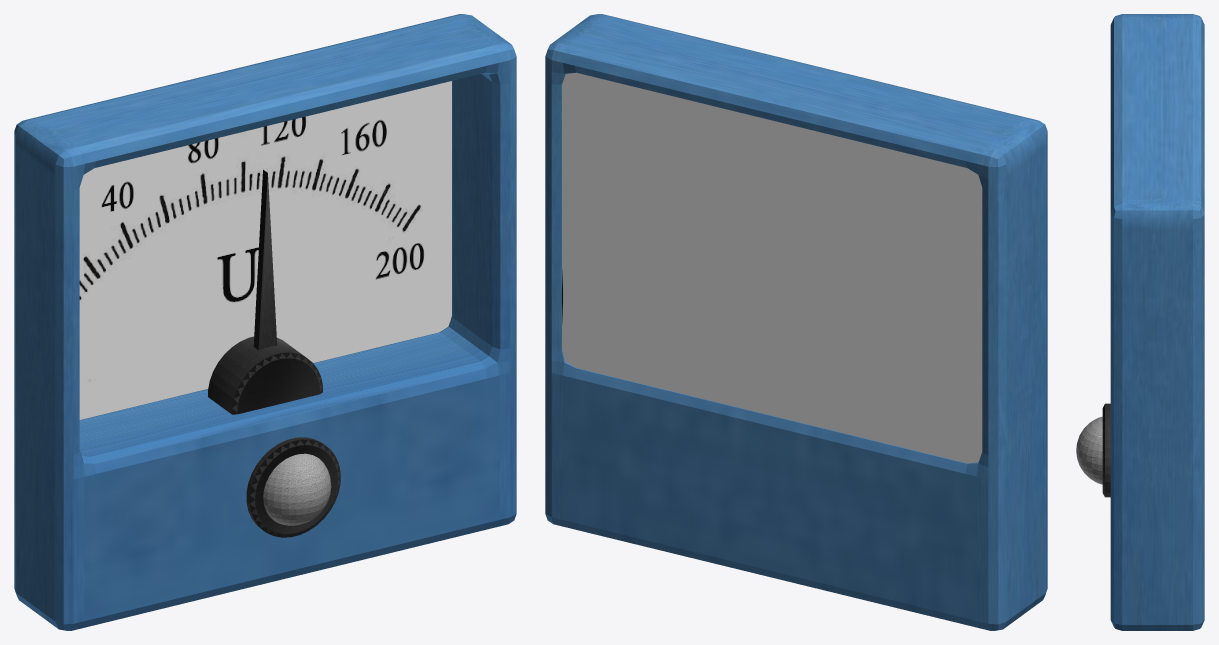
File: voltmeter.fbx
The picture shows the model from 3 angles, left to right: view 1: azimuth 30°, elevation 25°; view 2: azimuth 150°, elevation 25°; view 3: azimuth 270°, elevation 25°; orthographic projection. The views are drawn at different scales.
Visible parts, largest first — view 1: Вольтметр, scale.001, pointerBase.001, Button.002, Button.003, Pointer.001; view 2: Вольтметр, scale.001; view 3: Вольтметр, Button.002, Button.003.
Part boxes in pixels (box(x1,y1,x2,y2)): Вольтметр: box(14, 14, 516, 630); scale.001: box(79, 81, 451, 419); pointerBase.001: box(208, 336, 322, 414); Button.002: box(263, 453, 331, 525); Button.003: box(246, 437, 340, 537); Pointer.001: box(253, 170, 277, 350); Вольтметр: box(545, 14, 1047, 630); scale.001: box(562, 72, 982, 463); Вольтметр: box(1110, 14, 1204, 630); Button.002: box(1076, 416, 1102, 484); Button.003: box(1102, 403, 1110, 497).
Size of the model in its own units: 2 by 2 by 0.546.
Materials: 4 (4 with a texture image).
